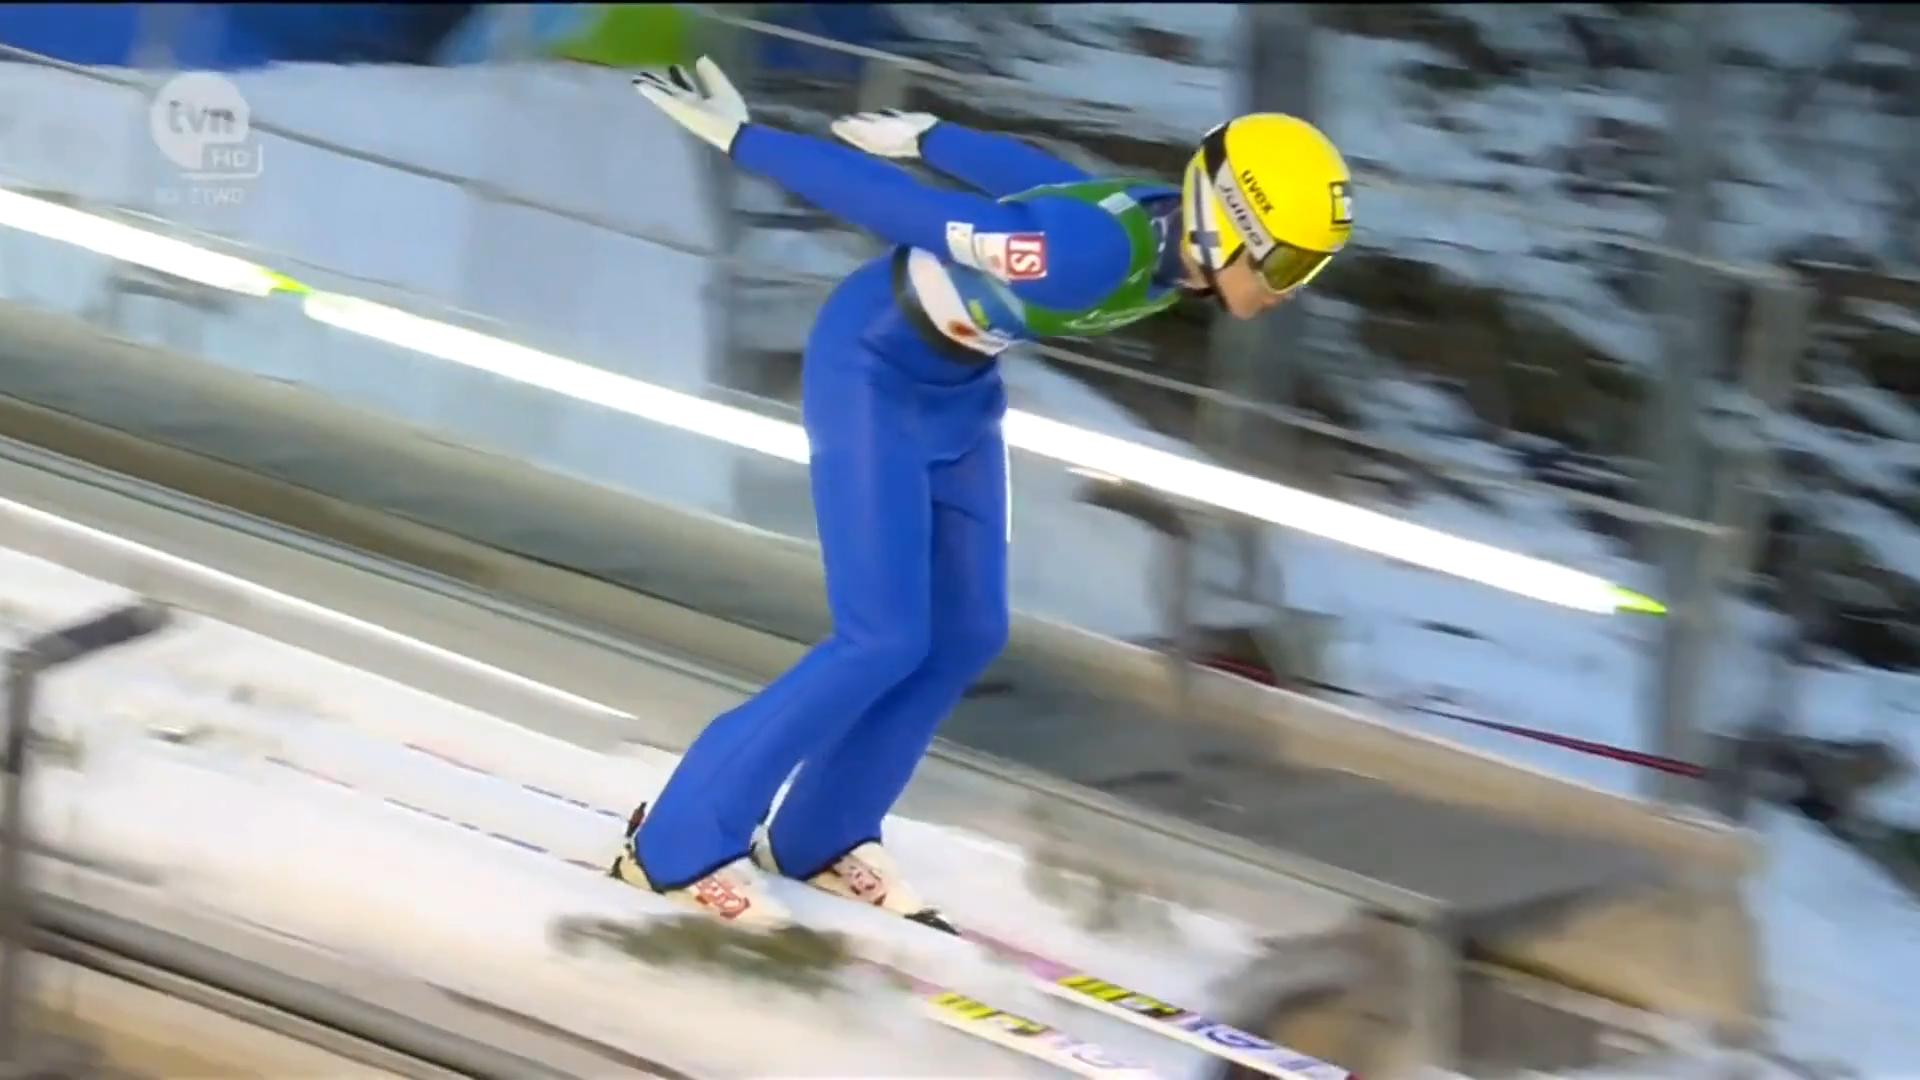prog: (1292, 864, 1673, 977)
